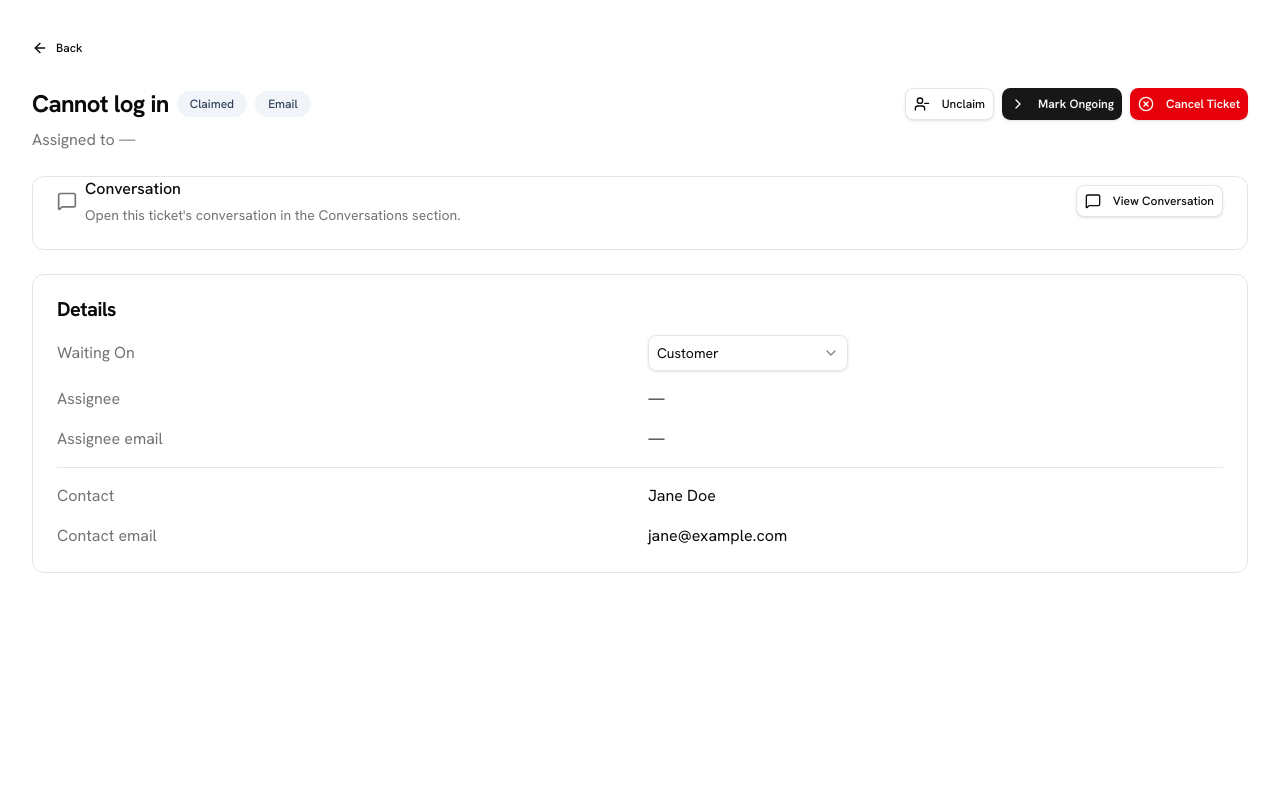
Test: TicketDetailPage › surfaces the real backend error in the shared actionError slot and keeps the prior value
The width and height of the screenshot is (1280, 800).
Click the dropdown named "Set waiting on" at (748, 353), box left=648, top=335, right=848, bottom=371
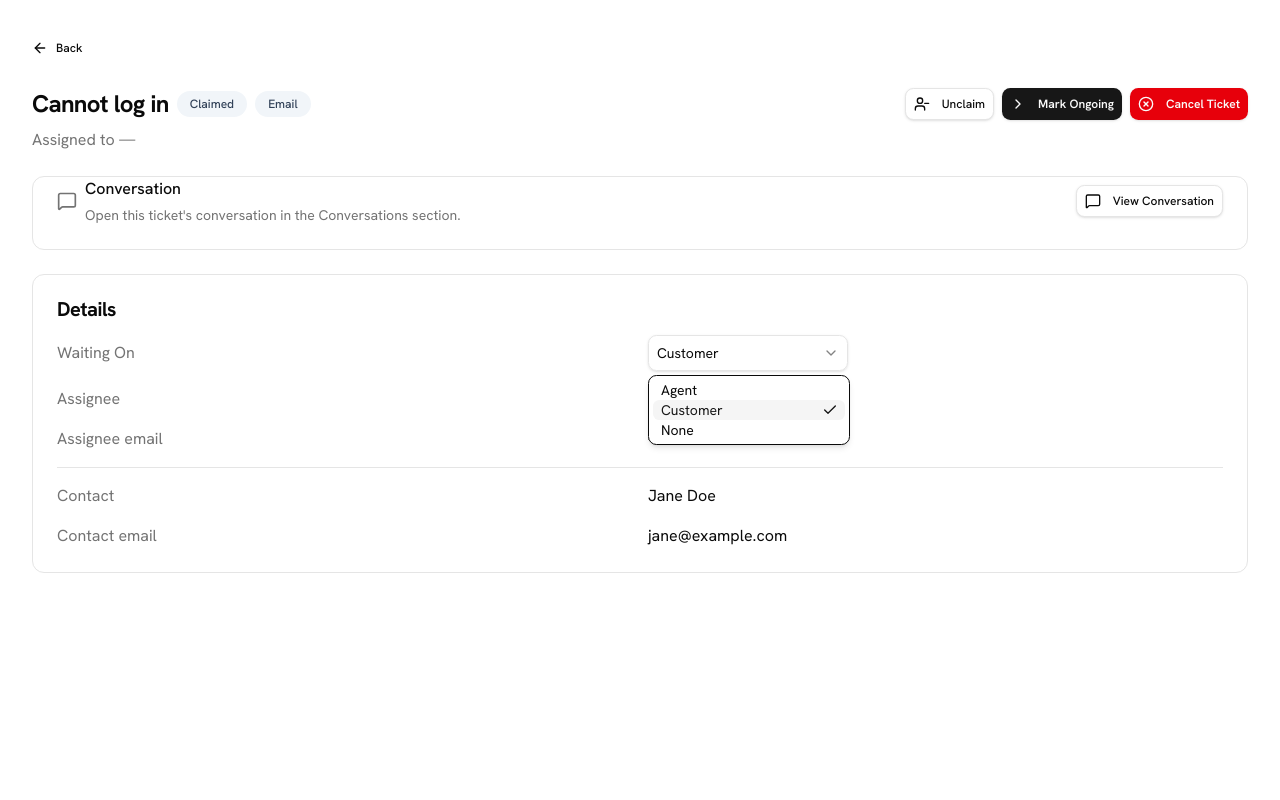
Click the option "Agent" at (679, 390), box left=661, top=381, right=697, bottom=399
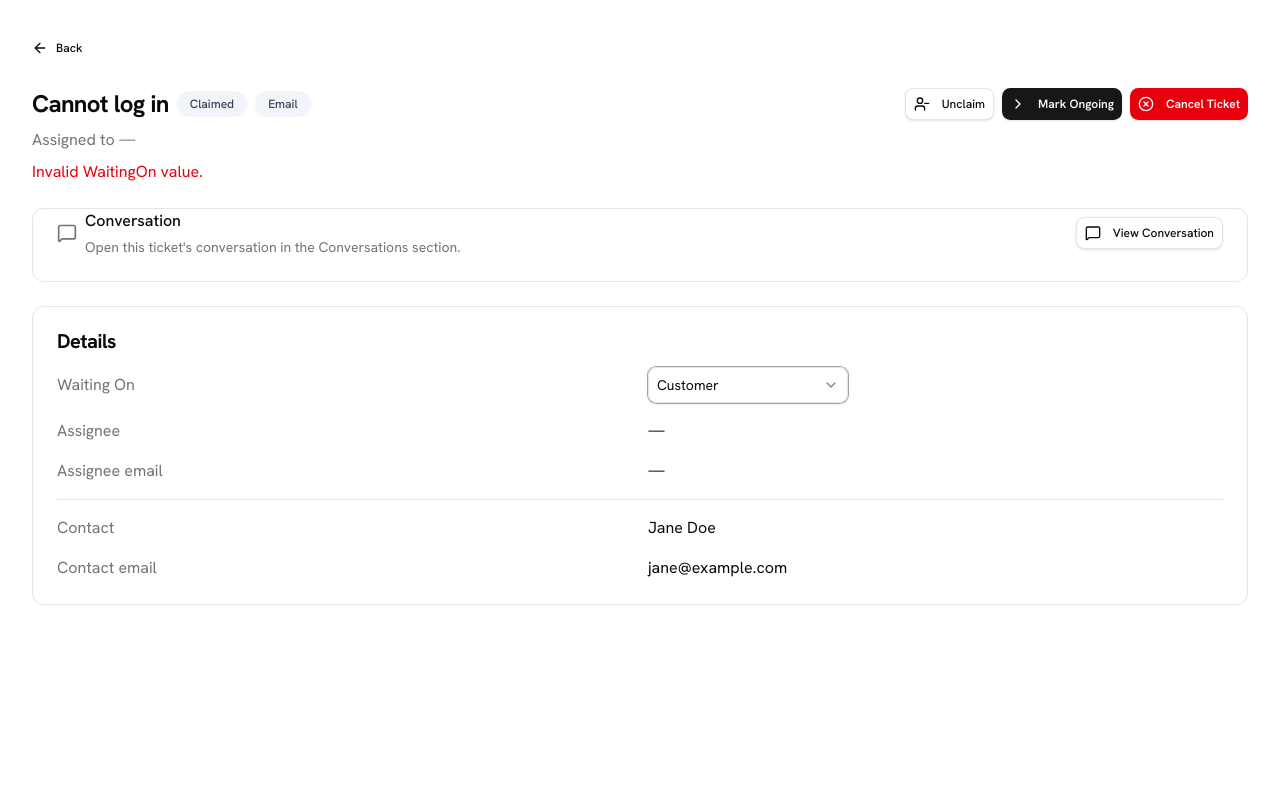
expect the dropdown named "Set waiting on" reads "Customer": met, box left=648, top=367, right=848, bottom=403
expect the text "Invalid WaitingOn value." is shown: met, box left=32, top=161, right=203, bottom=182
